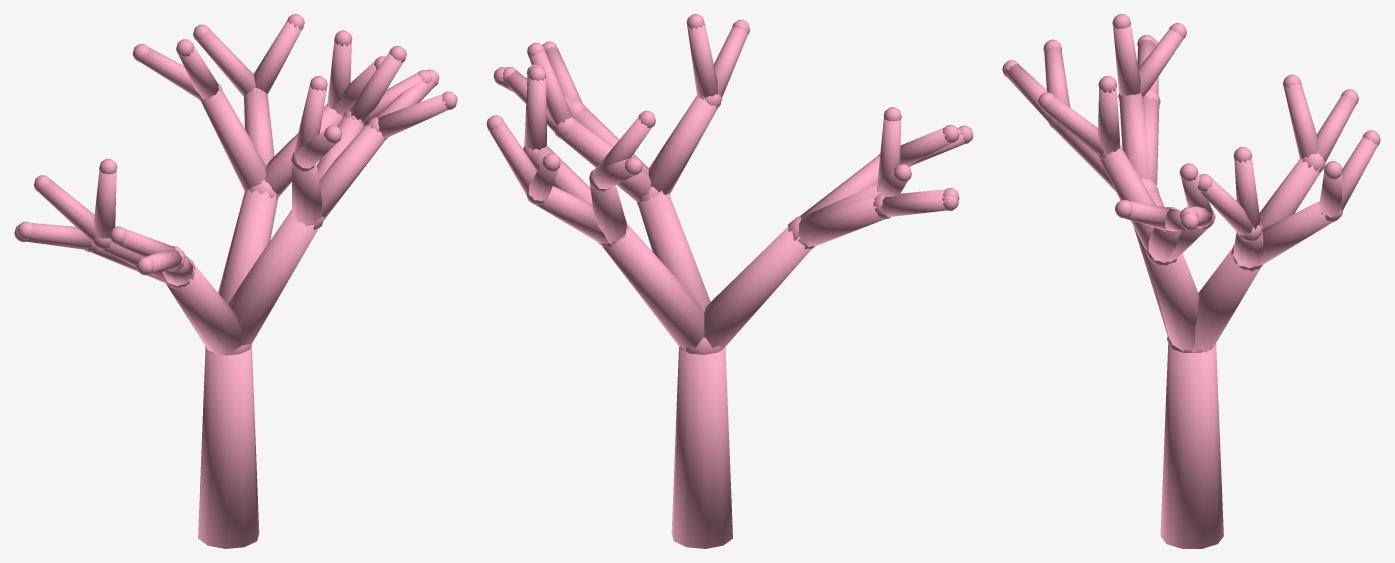
Rendered from coral_branch.glb.
3 views of the same model, side by side, from view 1: azimuth 30°, elevation 25°; view 2: azimuth 150°, elevation 25°; view 3: azimuth 270°, elevation 25° (orthographic).
Parts seen in each view (by area): view 1: b, b.021, b.011, b.001, b.018, b.025, b.012, b.022, b.013, b.014, b.015, b.029 (+15 smaller); view 2: b, b.001, b.011, b.021, b.022, b.002, b.028, b.012, b.024, b.017, b.018, b.013 (+13 smaller); view 3: b, b.011, b.021, b.012, b.018, b.005, b.022, b.020, b.006, b.023, b.007, b.024 (+15 smaller).
Part boxes in pixels (box(x1,y1,x2,y2)): b: box(198, 344, 259, 548); b.021: box(228, 209, 318, 345); b.011: box(218, 189, 278, 304); b.001: box(166, 265, 241, 355); b.018: box(201, 88, 266, 191); b.025: box(319, 124, 385, 220); b.012: box(244, 88, 274, 165); b.022: box(292, 163, 322, 225); b.013: box(253, 20, 301, 94); b.014: box(196, 30, 255, 96); b.015: box(264, 104, 342, 196); b.029: box(349, 52, 403, 122); b: box(671, 347, 732, 548); b.001: box(704, 226, 811, 350); b.011: box(602, 224, 704, 351); b.021: box(637, 193, 710, 312); b.022: box(648, 96, 718, 194); b.002: box(798, 196, 883, 246); b.028: box(561, 119, 651, 202); b.012: box(536, 186, 608, 244); b.024: box(687, 24, 717, 98); b.017: box(524, 77, 546, 150); b.018: box(590, 183, 626, 243); b.013: box(489, 121, 537, 194); b: box(1160, 344, 1223, 548); b.011: box(1192, 248, 1260, 353); b.021: box(1148, 253, 1199, 351); b.012: box(1256, 201, 1332, 266); b.018: box(1259, 159, 1320, 228); b.005: box(1119, 94, 1149, 179); b.022: box(1100, 147, 1155, 250); b.020: box(1283, 82, 1318, 159); b.006: box(1113, 24, 1140, 95); b.023: box(1044, 97, 1103, 156); b.007: box(1138, 29, 1183, 96); b.024: box(1098, 87, 1120, 153).
Bounding box in the file's own units: 2.61 × 2.69 × 1.91.
